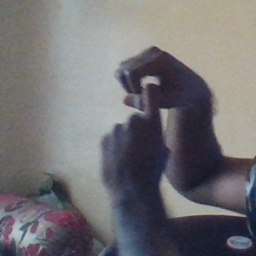Q: (98, 42, 193, 183)
